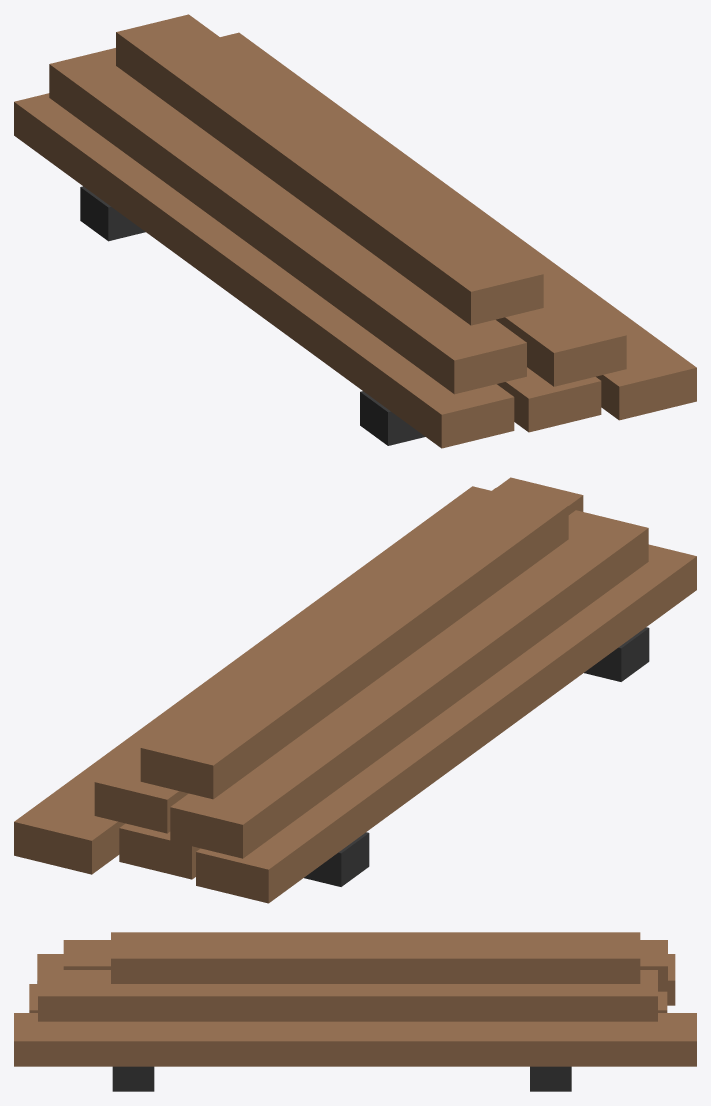
File: planks-wood-c.glb
The picture shows the model from 3 angles, top to bottom: view 1: azimuth 30°, elevation 25°; view 2: azimuth 150°, elevation 25°; view 3: azimuth 270°, elevation 25°; orthographic projection. The views are drawn at different scales.
Parts seen in each view (by area): view 1: Planks Wood V3; view 2: Planks Wood V3; view 3: Planks Wood V3.
Boxes of the visible parts, x1,y1,x2,y2 form: Planks Wood V3: (14,14,696,448); Planks Wood V3: (14,477,696,903); Planks Wood V3: (14,932,696,1091).
Size of the model in its own units: 1.5 by 0.8 by 4.91.
1 material, 1 textured.
